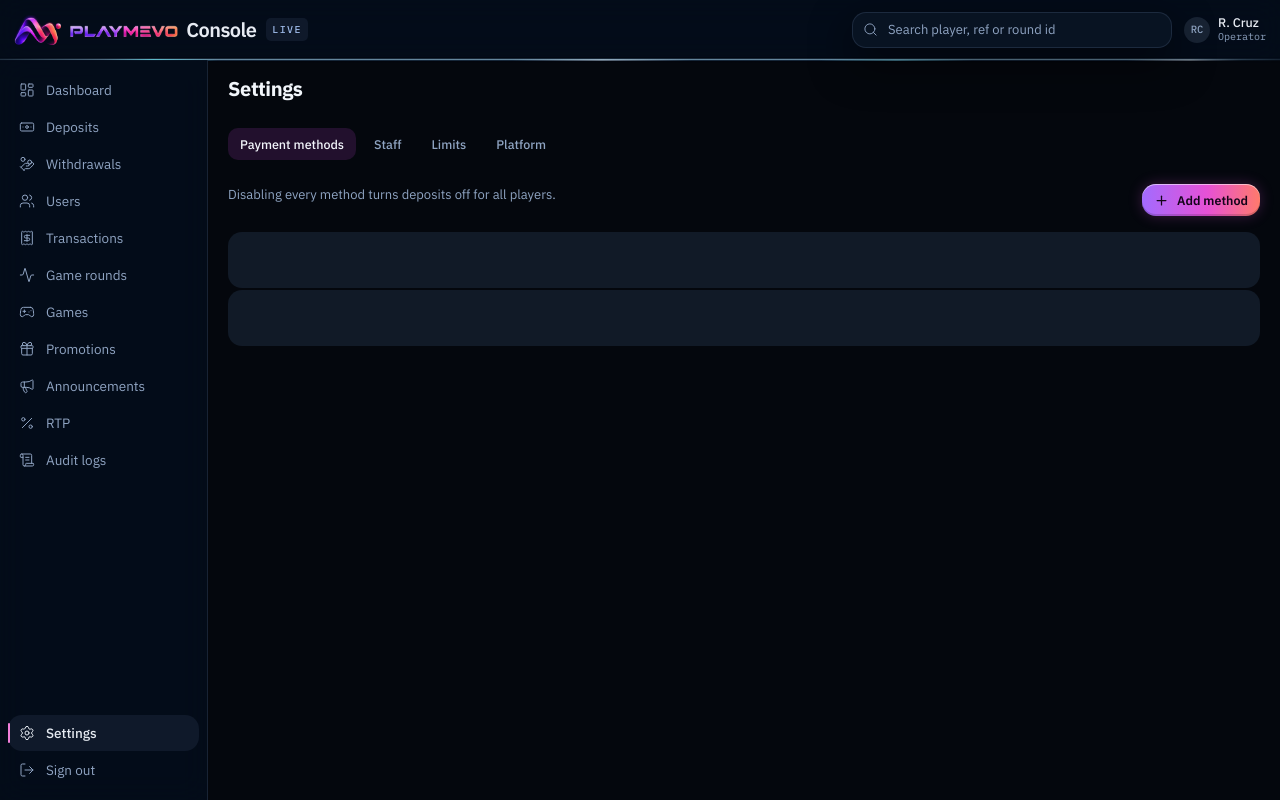
Test: console search › opens an all-status deposit result by its stored record id
Type "8841" into the dropdown named "Search the console" at (1024, 30), box [888,12,1161,46]
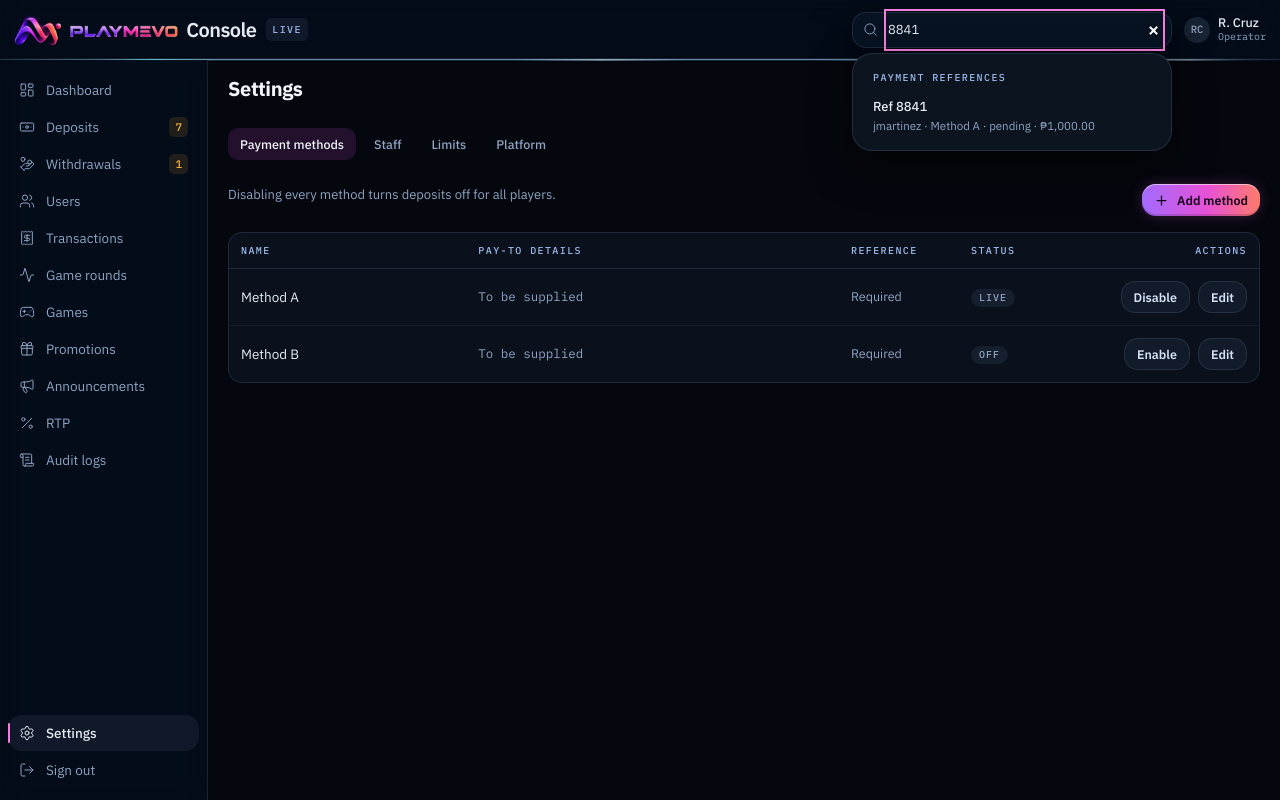
expect the text "Payment references" is shown: met, box [873,71,1006,84]
Click the option "Ref 8841 jmartinez · Method A · pending · ₱1,000.00" at (1012, 116), box [861,89,1163,142]
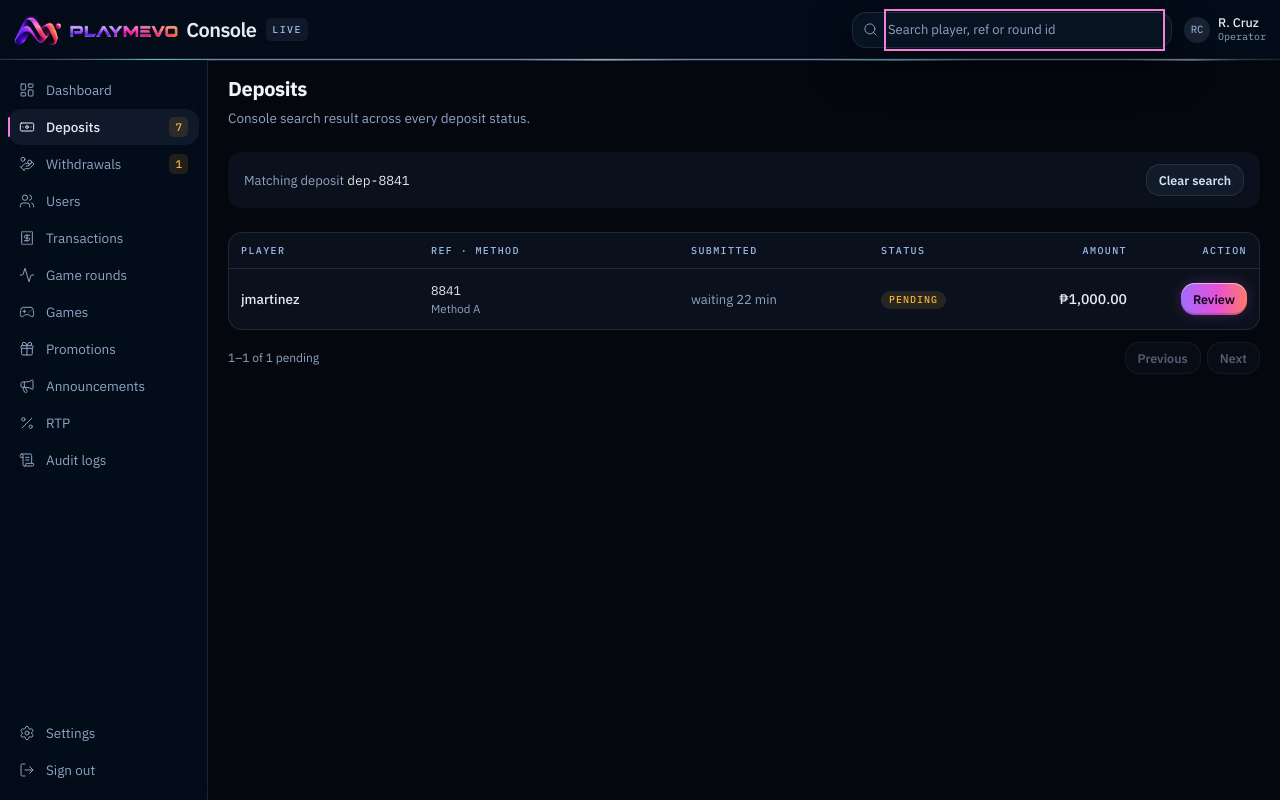
expect the text "Console search result across every deposit status." is shown: met, box [228,108,530,128]
expect the text "8841" is shown: met, box [431,282,461,298]
expect the button "Clear search" is shown: met, box [1146,164,1244,196]
